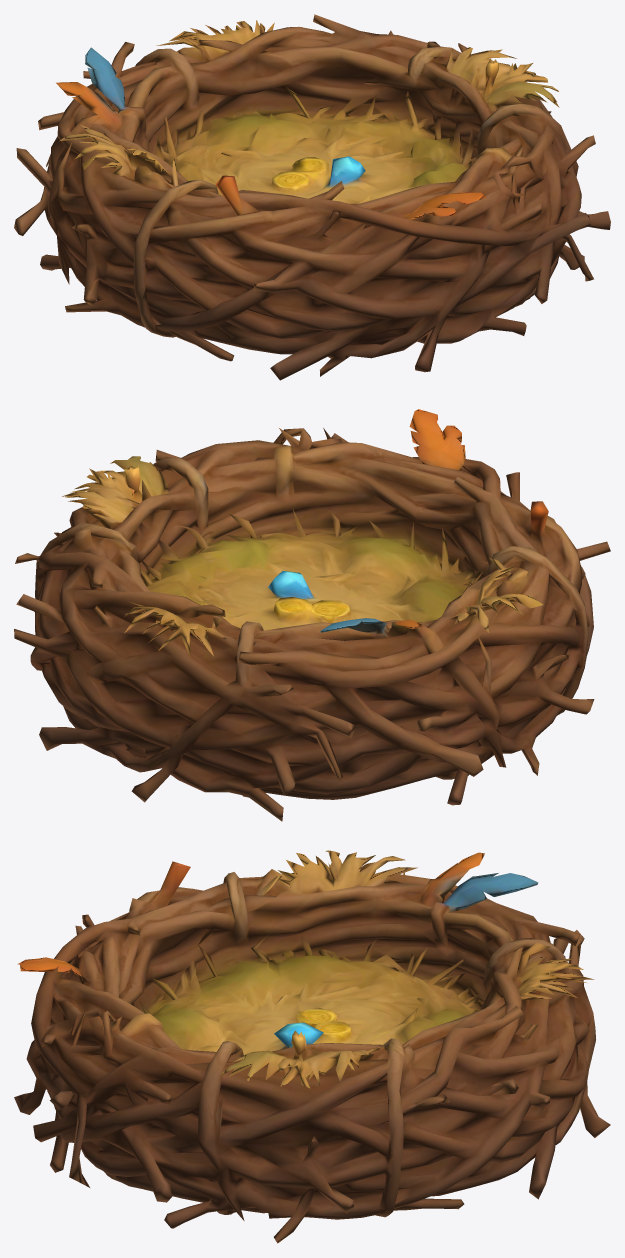
File: yuva.glb
The picture shows the model from 3 angles, top to bottom: view 1: azimuth 30°, elevation 25°; view 2: azimuth 150°, elevation 25°; view 3: azimuth 270°, elevation 25°; orthographic projection. The views are drawn at different scales.
Parts seen in each view (by area): view 1: tripo_node_69cade0c-3c44-454c-9c5b-4d57eaab9c46; view 2: tripo_node_69cade0c-3c44-454c-9c5b-4d57eaab9c46; view 3: tripo_node_69cade0c-3c44-454c-9c5b-4d57eaab9c46.
Part boxes in pixels (box(x1,y1,x2,y2)): tripo_node_69cade0c-3c44-454c-9c5b-4d57eaab9c46: box(14, 14, 610, 380); tripo_node_69cade0c-3c44-454c-9c5b-4d57eaab9c46: box(14, 409, 610, 821); tripo_node_69cade0c-3c44-454c-9c5b-4d57eaab9c46: box(14, 850, 610, 1243).
Bounding box in the file's own units: 0.9765 × 0.3451 × 0.9728.
Materials: 1 (1 with a texture image).
